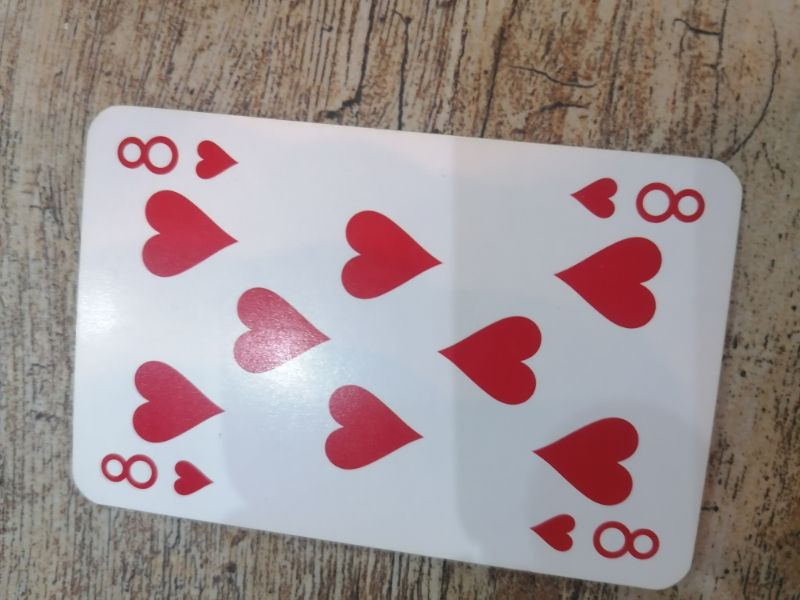8h: (564, 170, 711, 230), (528, 507, 665, 568), (112, 127, 243, 182), (97, 448, 220, 500)
